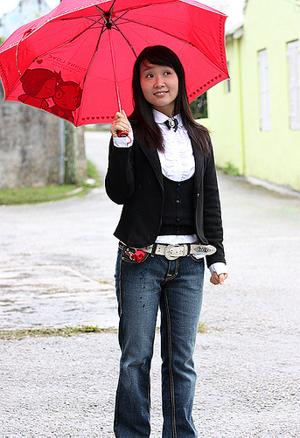person: (104, 45, 228, 436)
